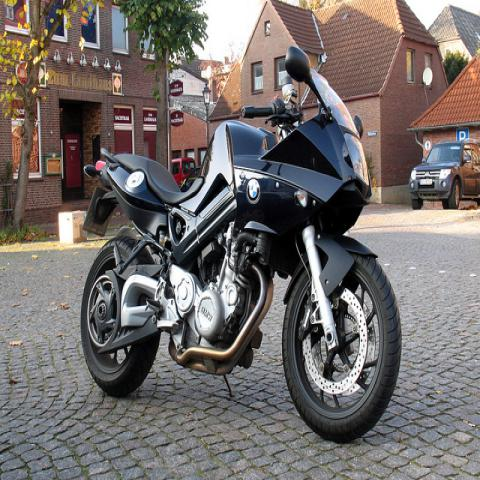car: (410, 140, 479, 212), (170, 157, 198, 186)
motorcycle: (77, 43, 404, 448)
truck: (408, 138, 479, 211), (171, 157, 197, 187)
